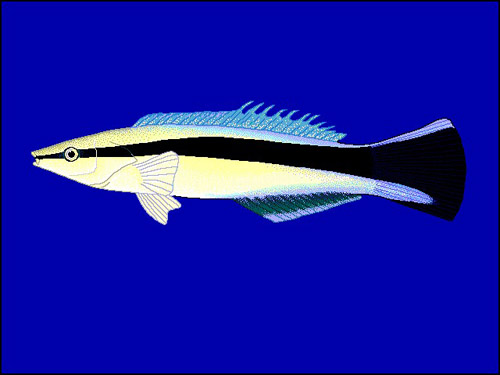fish: (29, 101, 468, 225)
